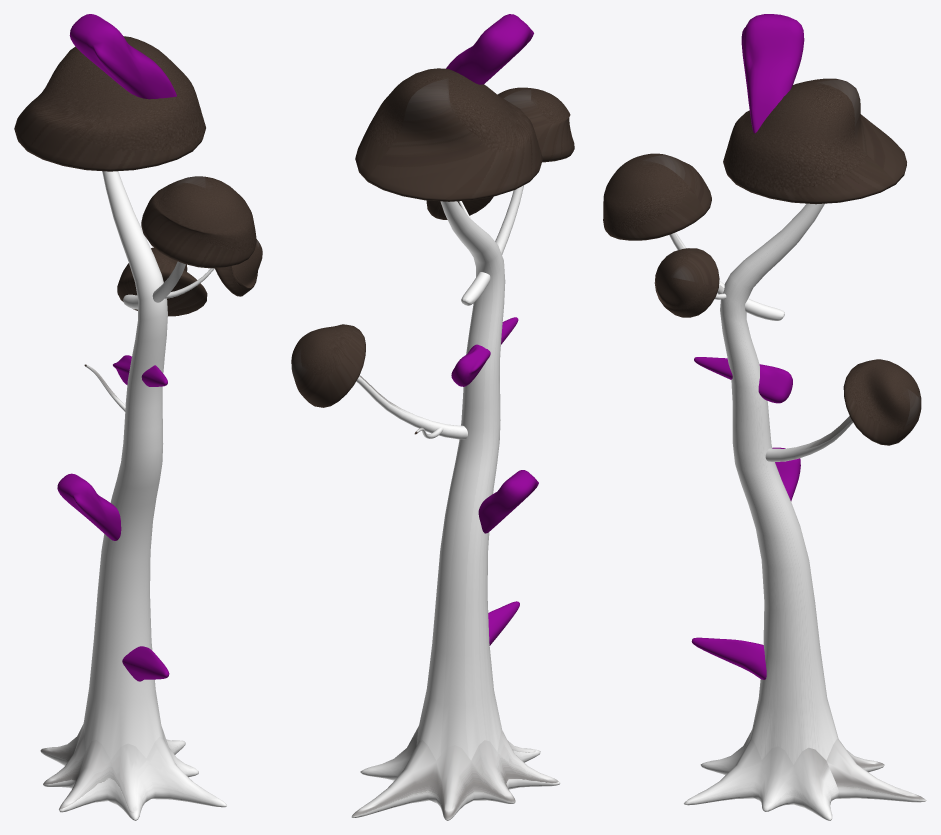
File: MushroomBlight_L3.fbx
The picture shows the model from 3 angles, left to right: view 1: azimuth 30°, elevation 25°; view 2: azimuth 150°, elevation 25°; view 3: azimuth 270°, elevation 25°; orthographic projection. The views are drawn at different scales.
Parts seen in each view (by area): view 1: MushroomBlight_L3; view 2: MushroomBlight_L3; view 3: MushroomBlight_L3.
Boxes of the visible parts, x1=… form: MushroomBlight_L3: x1=14, y1=14, x2=262, y2=820; MushroomBlight_L3: x1=291, y1=14, x2=574, y2=820; MushroomBlight_L3: x1=603, y1=14, x2=926, y2=820.
Size of the model in its own units: 5.36 by 19.62 by 7.66.
2 materials, 1 textured.
